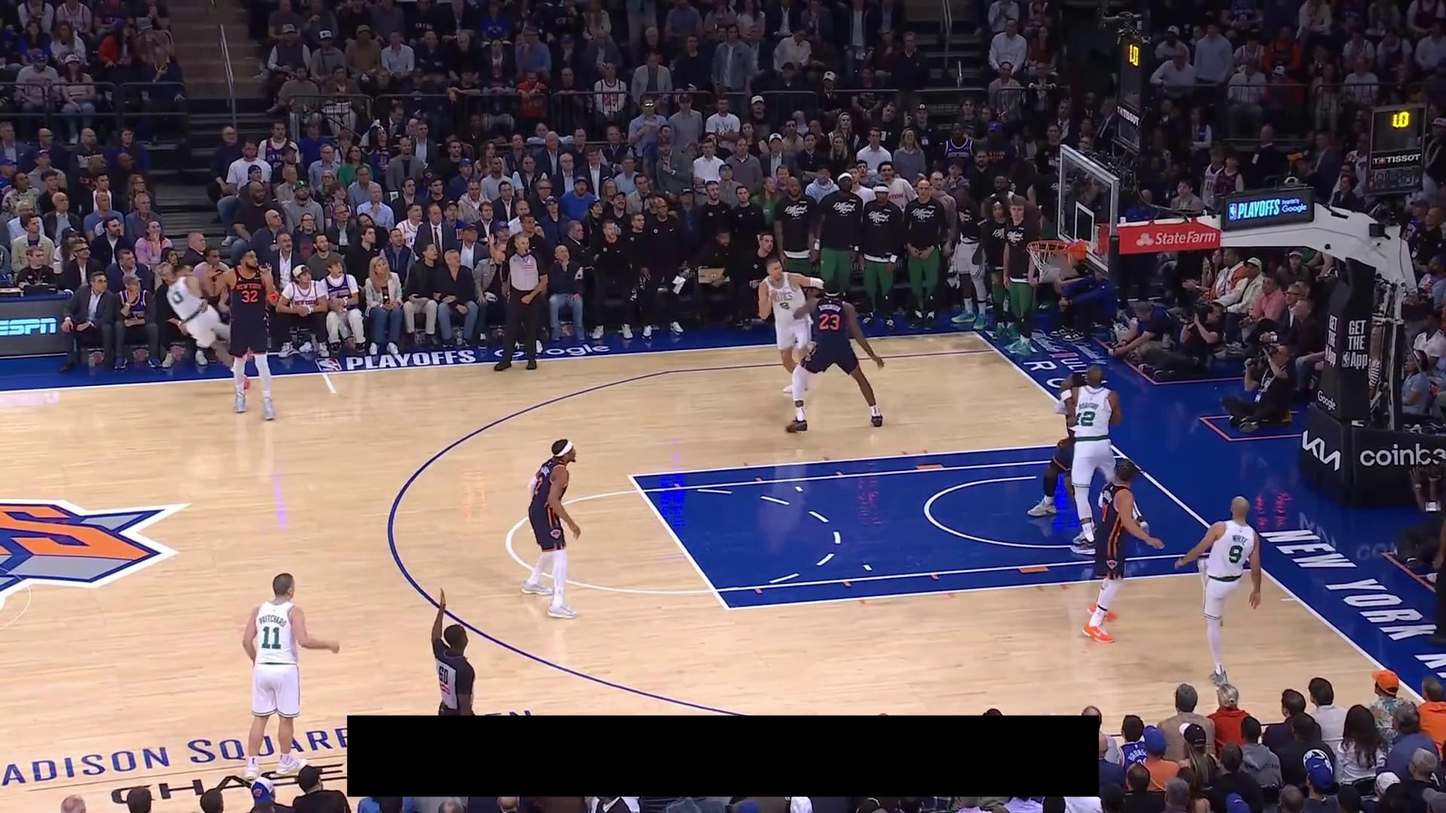ball: (1049, 251, 1075, 276)
ball-in-basket: (1026, 238, 1075, 282)
number: (261, 626, 282, 650), (819, 312, 840, 331), (1075, 410, 1097, 427), (1228, 544, 1243, 564), (241, 288, 258, 303), (533, 475, 544, 496), (171, 291, 184, 305), (778, 300, 791, 312)
player: (239, 572, 340, 783), (1054, 362, 1151, 555), (1175, 495, 1264, 688), (784, 276, 886, 434), (1081, 455, 1166, 644), (206, 245, 283, 422), (1027, 371, 1098, 544), (518, 437, 583, 620), (169, 261, 255, 397), (758, 255, 824, 397)
referee: (488, 230, 549, 373), (430, 586, 477, 715), (1425, 523, 1446, 647)
rim: (1026, 239, 1071, 254)
